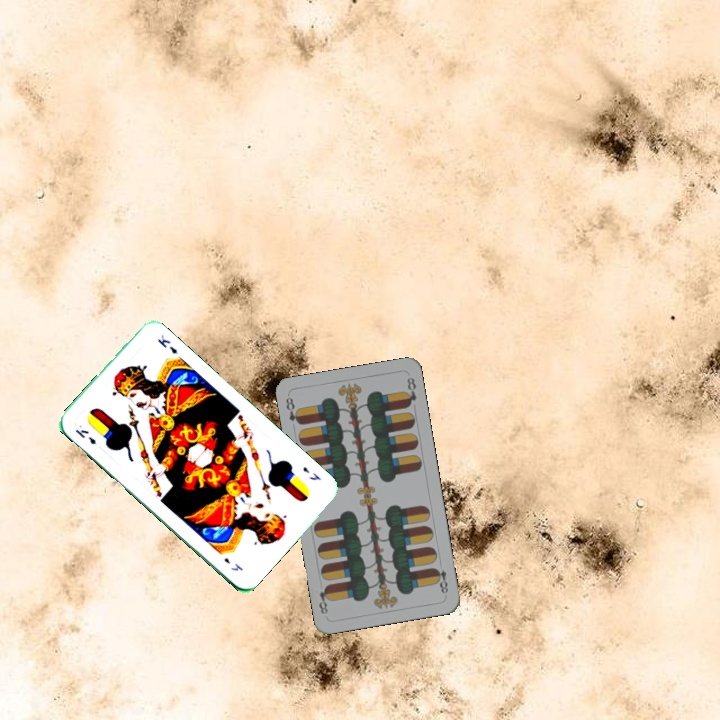E8: (282, 393, 304, 427), (431, 564, 451, 598)
EK: (71, 425, 99, 447), (299, 462, 323, 483)
